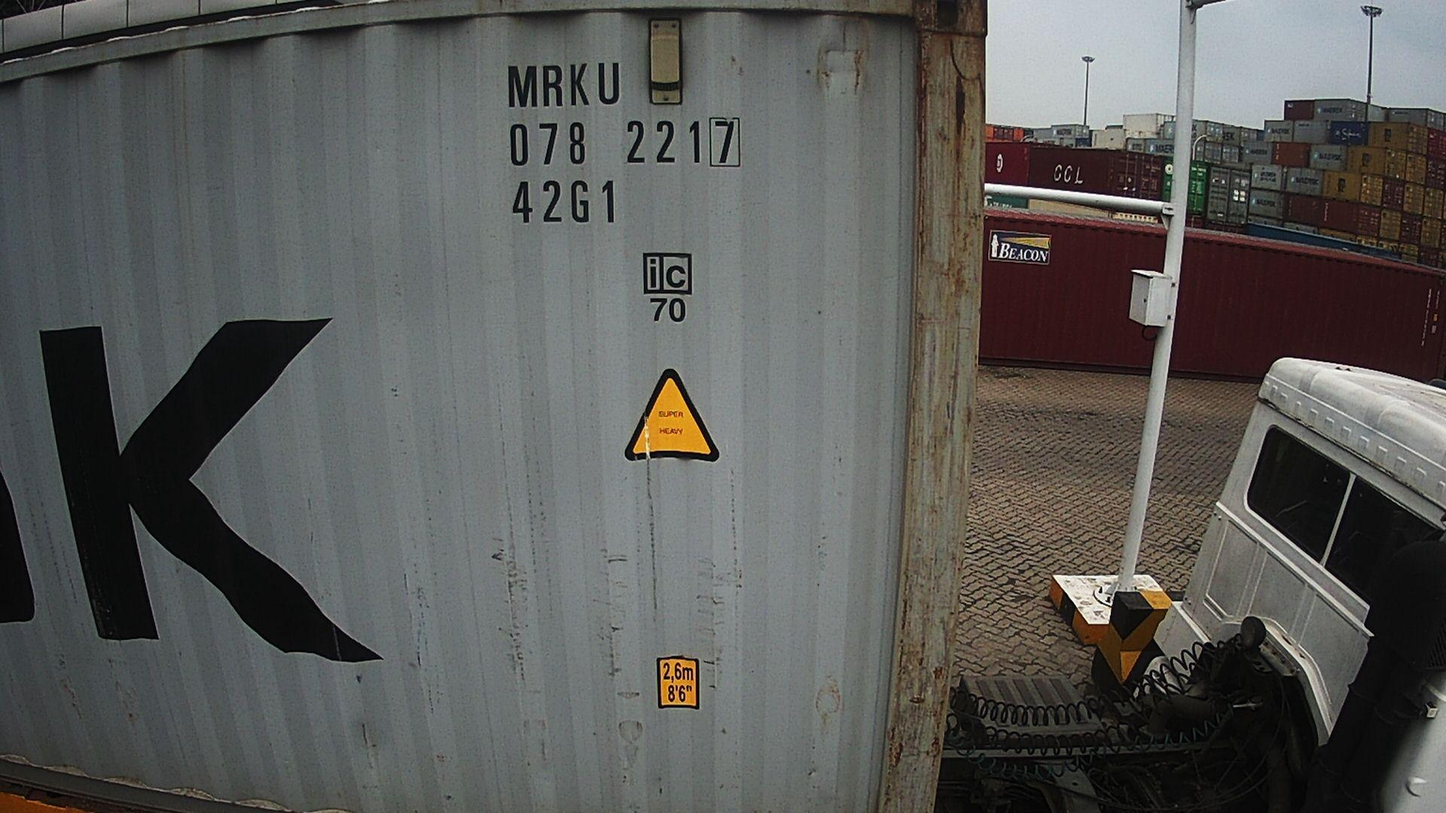container-numbers: (505, 114, 745, 172), (501, 59, 627, 114), (508, 176, 622, 227)
